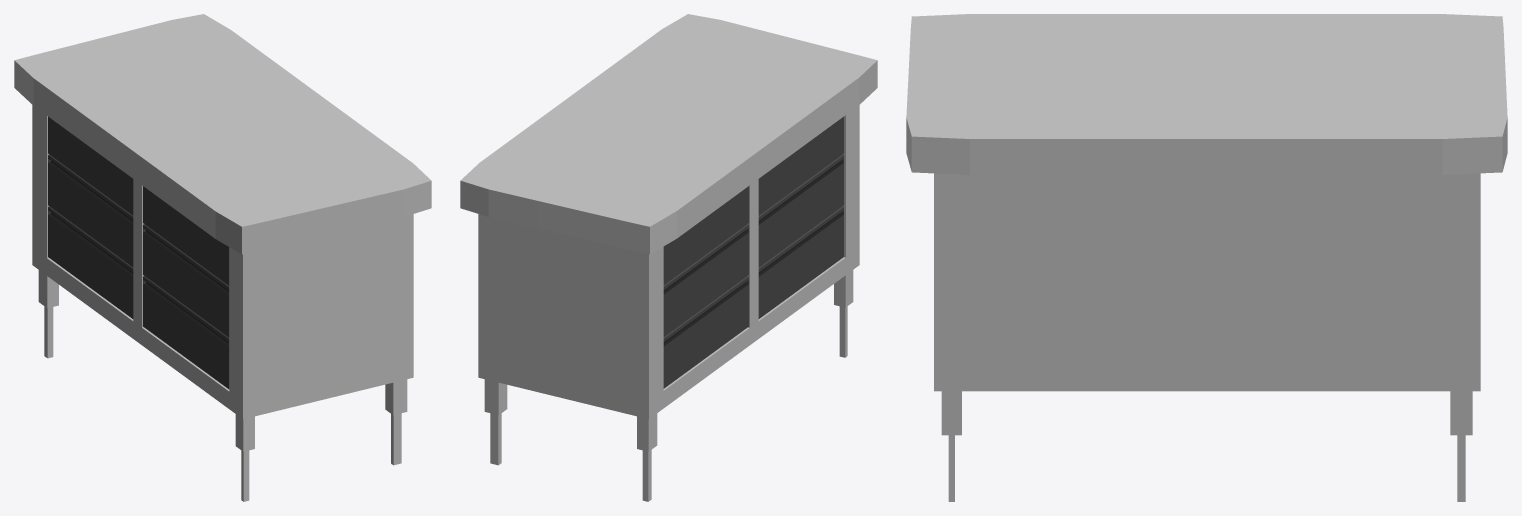
File: MC_6Drawer.fbx
The picture shows the model from 3 angles, left to right: view 1: azimuth 30°, elevation 25°; view 2: azimuth 150°, elevation 25°; view 3: azimuth 270°, elevation 25°; orthographic projection. The views are drawn at different scales.
Visible parts, largest first — view 1: 6DrawerTable, Drawer2, Drawer, Drawer4, Drawer5, Drawer3, Drawer6; view 2: 6DrawerTable, Drawer4, Drawer2, Drawer5, Drawer, Drawer6, Drawer3; view 3: 6DrawerTable.
Part boxes in pixels (left/top/right/bottom): 6DrawerTable: left=14, top=14, right=431, bottom=501; Drawer2: left=143, top=224, right=229, bottom=337; Drawer: left=143, top=276, right=229, bottom=388; Drawer4: left=48, top=206, right=133, bottom=318; Drawer5: left=48, top=154, right=133, bottom=267; Drawer3: left=143, top=186, right=229, bottom=285; Drawer6: left=48, top=116, right=133, bottom=215; 6DrawerTable: left=460, top=14, right=877, bottom=501; Drawer4: left=663, top=276, right=748, bottom=388; Drawer2: left=758, top=154, right=843, bottom=267; Drawer5: left=663, top=224, right=748, bottom=336; Drawer: left=758, top=206, right=843, bottom=318; Drawer6: left=663, top=186, right=748, bottom=284; Drawer3: left=758, top=116, right=843, bottom=215; 6DrawerTable: left=906, top=14, right=1507, bottom=501.
Bounding box in the file's own units: 81.04 × 113 × 165.
